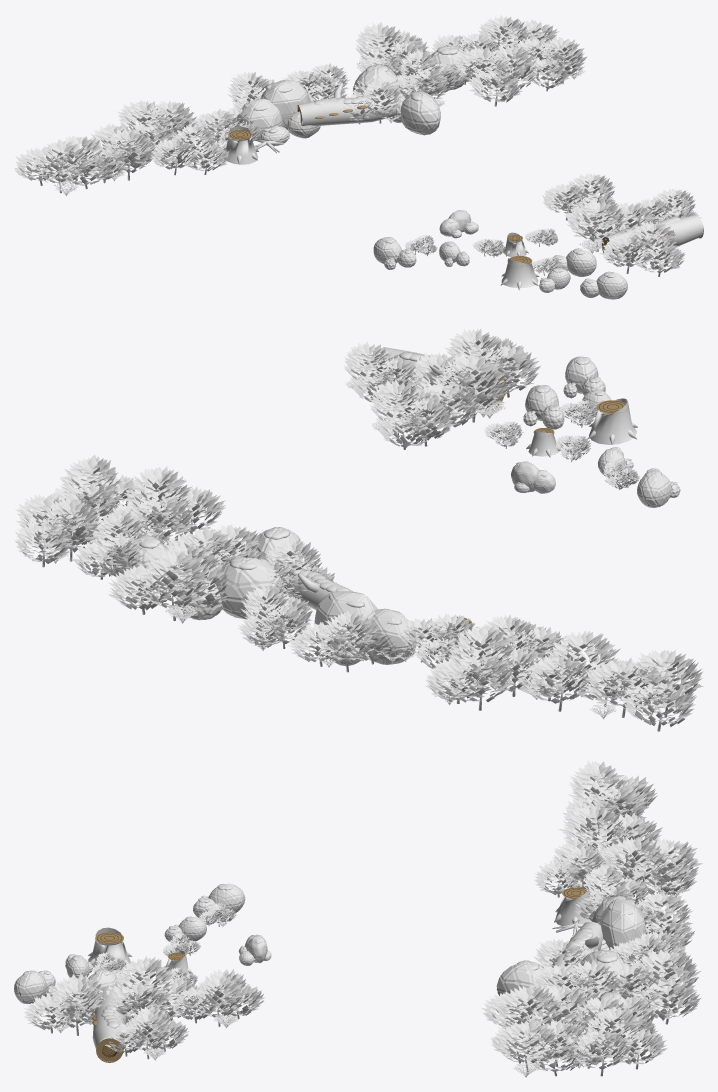
File: SM_DF_Nature_2_3_Macro.fbx
3 views of the same model, one above another, from view 1: azimuth 30°, elevation 25°; view 2: azimuth 150°, elevation 25°; view 3: azimuth 270°, elevation 25° (orthographic). The views are drawn at different scales.
Visible parts, largest first — view 1: SM_DF_Nature_2_3_Macro; view 2: SM_DF_Nature_2_3_Macro; view 3: SM_DF_Nature_2_3_Macro.
Part boxes in pixels (left/top/right/bottom): SM_DF_Nature_2_3_Macro: left=14, top=15, right=703, bottom=299; SM_DF_Nature_2_3_Macro: left=14, top=328, right=703, bottom=731; SM_DF_Nature_2_3_Macro: left=14, top=760, right=702, bottom=1077.
Bounding box in the file's own units: 2782 × 2692 × 343.
